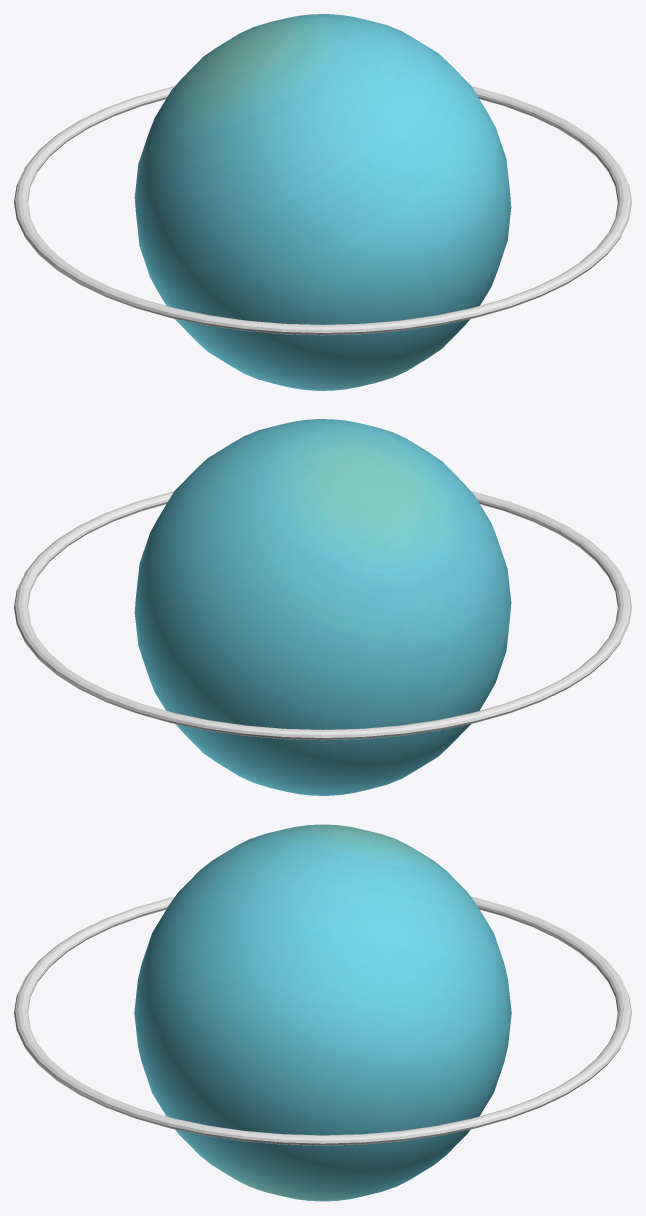
The model's file is uranus.glb.
The picture shows the model from 3 angles, top to bottom: view 1: azimuth 30°, elevation 25°; view 2: azimuth 150°, elevation 25°; view 3: azimuth 270°, elevation 25°; orthographic projection.
Parts seen in each view (by area): view 1: 球, トーラス.002; view 2: 球, トーラス.002; view 3: 球, トーラス.002.
Boxes of the visible parts, x1,y1,x2,y2 form: 球: (134,14,511,390); トーラス.002: (14,86,631,335); 球: (134,419,511,795); トーラス.002: (14,491,631,740); 球: (134,824,511,1201); トーラス.002: (14,896,631,1145).
Size of the model in its own units: 3.28 by 2 by 3.28.
Materials: 1 (1 with a texture image).
